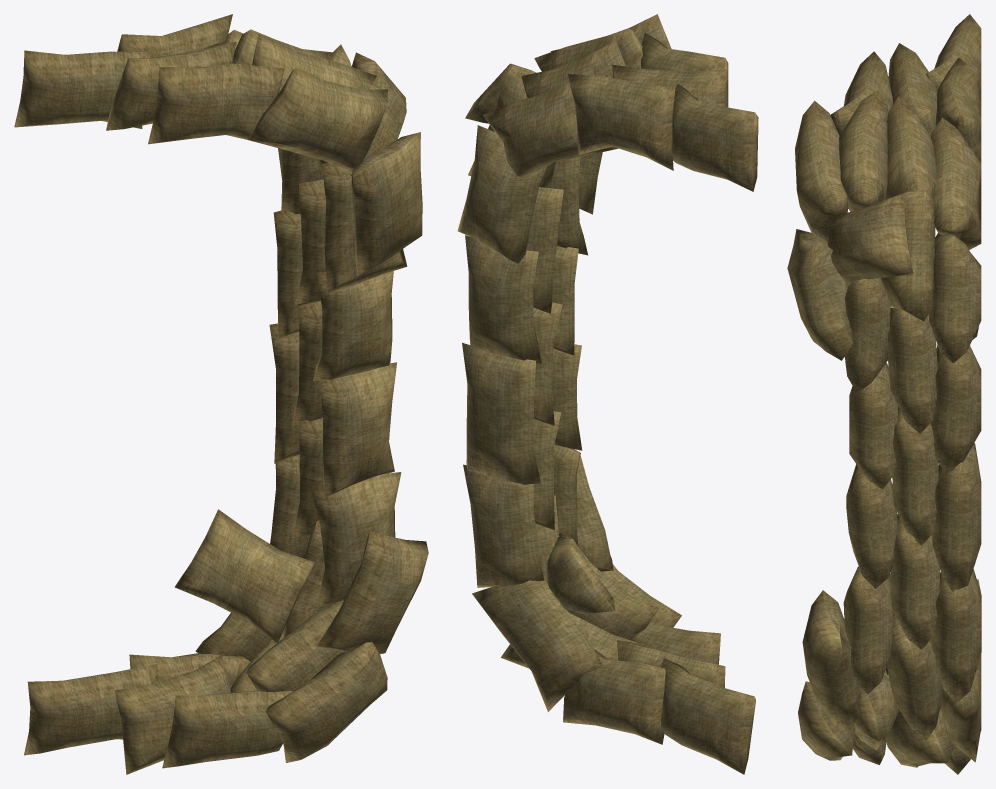
File: sandbags_fort1a.obj
3 views of the same model, side by side, from view 1: azimuth 30°, elevation 25°; view 2: azimuth 150°, elevation 25°; view 3: azimuth 270°, elevation 25° (orthographic). The views are drawn at different scales.
Visible parts, largest first — view 1: caenfort1; view 2: caenfort1; view 3: caenfort1.
Boxes of the visible parts, x1=… form: caenfort1: x1=14, y1=14, x2=428, y2=774; caenfort1: x1=457, y1=14, x2=758, y2=774; caenfort1: x1=787, y1=14, x2=981, y2=774.
Size of the model in its own units: 126 by 253 by 65.58.
